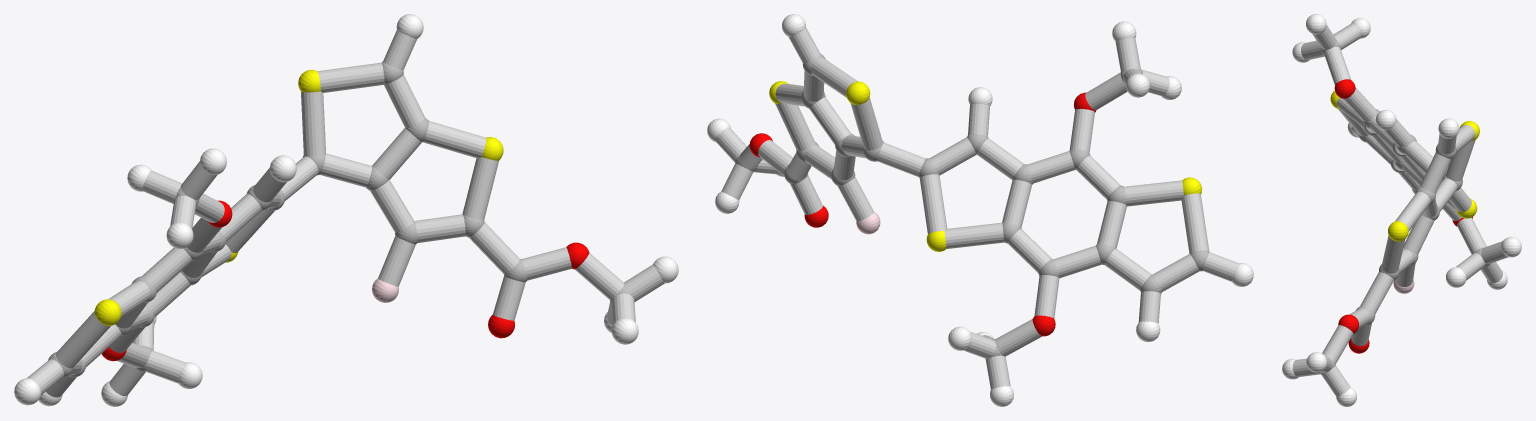
The model's file is color.glb.
The picture shows the model from 3 angles, left to right: view 1: azimuth 30°, elevation 25°; view 2: azimuth 150°, elevation 25°; view 3: azimuth 270°, elevation 25°; orthographic projection. The views are drawn at different scales.
Visible parts, largest first — view 1: grp15205, grp8689, grp1, grp7241, grp13395; view 2: grp15205, grp8689, grp1, grp7241, grp13395; view 3: grp15205, grp8689, grp1, grp13395, grp7241.
Part boxes in pixels (left/top/right/bottom): grp15205: left=27, top=30, right=664, bottom=397; grp8689: left=14, top=14, right=678, bottom=406; grp1: left=48, top=61, right=634, bottom=377; grp7241: left=94, top=69, right=503, bottom=326; grp13395: left=102, top=200, right=589, bottom=361; grp15205: left=715, top=27, right=1238, bottom=389; grp8689: left=707, top=14, right=1253, bottom=406; grp1: left=735, top=54, right=1209, bottom=359; grp7241: left=769, top=81, right=1202, bottom=251; grp13395: left=749, top=92, right=1096, bottom=336; grp15205: left=1292, top=23, right=1508, bottom=396; grp8689: left=1282, top=14, right=1521, bottom=406; grp1: left=1319, top=39, right=1490, bottom=374; grp13395: left=1334, top=79, right=1472, bottom=353; grp7241: left=1330, top=91, right=1479, bottom=241.
Bounding box in the file's own units: 16.18 × 8.51 × 6.89.
